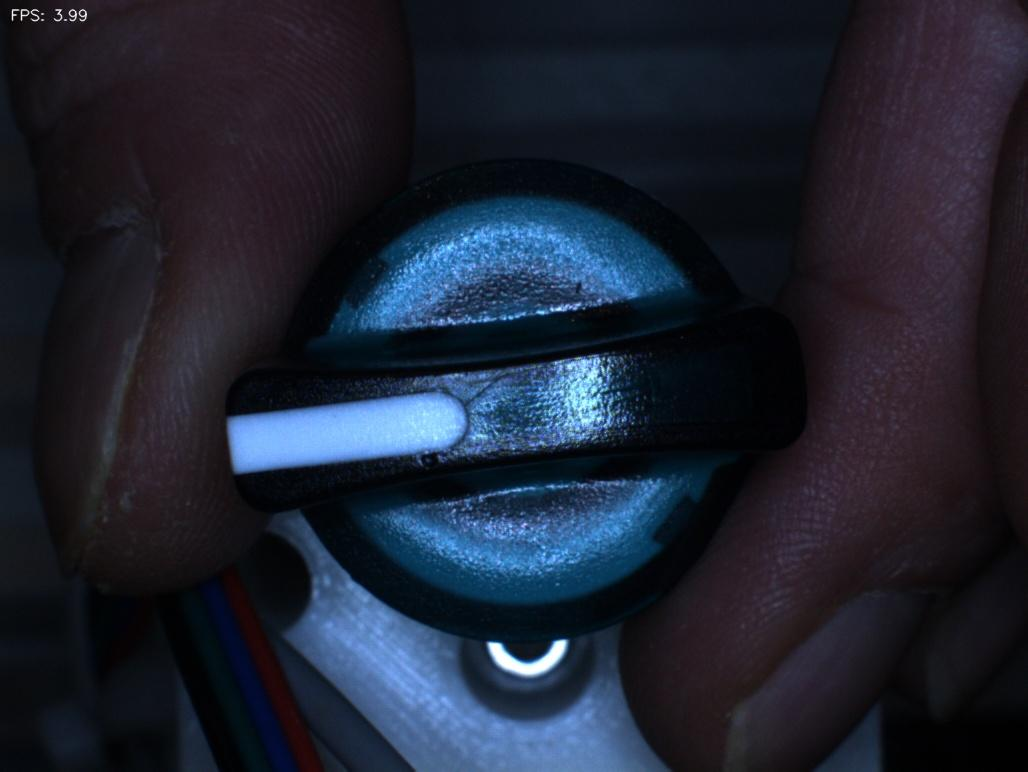Choc: (392, 425, 477, 501)
